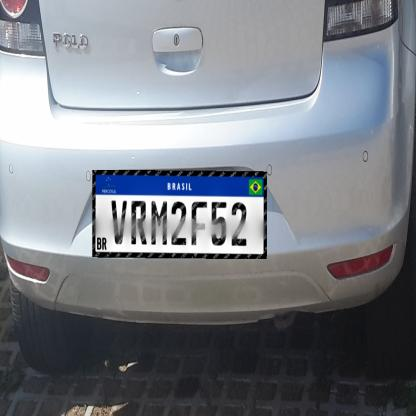PlacaM: (92, 170, 267, 259)
